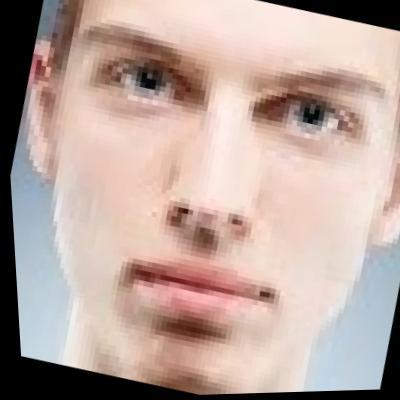netural: (2, 0, 400, 400)
